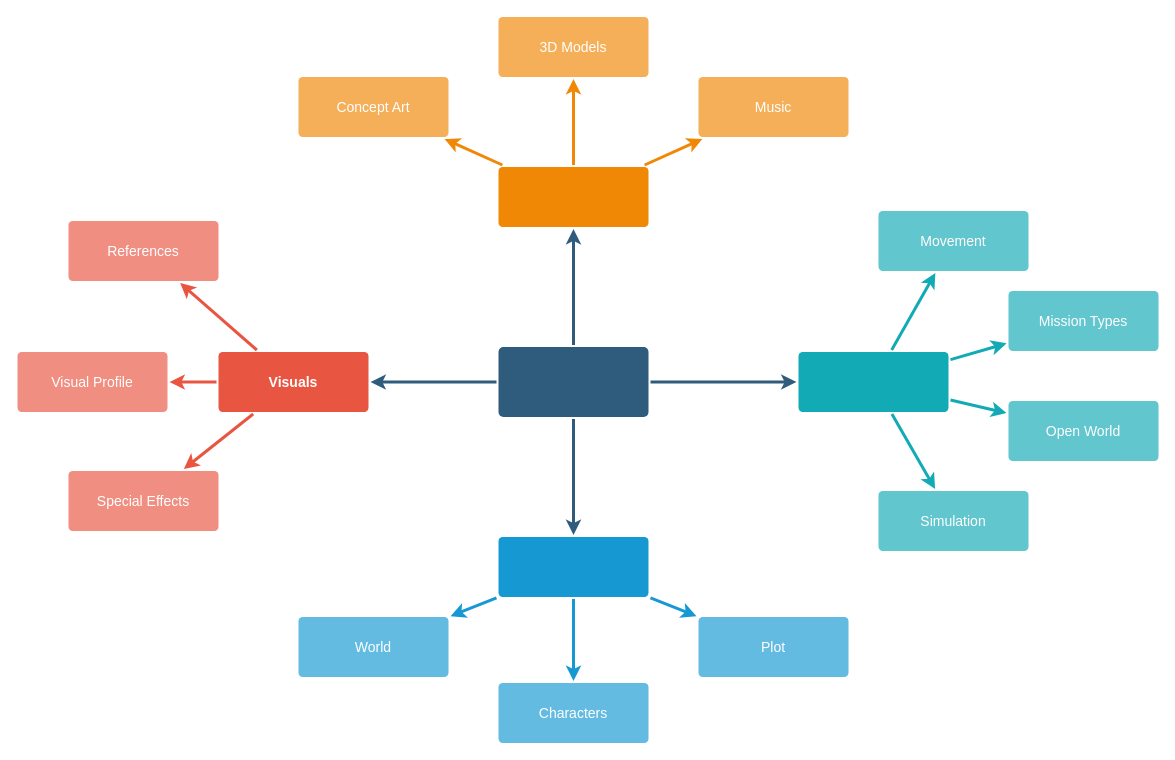
Image size: 1175x760. Some labels were removed from this diagram. Here are the shapes that lost their labels. From the top down, the centre of each, then its label:
At [573,196]: "Assets".
At [573,381]: "Island Port Game".
At [873,382]: "Gameplay".
At [573,566]: "Story".
